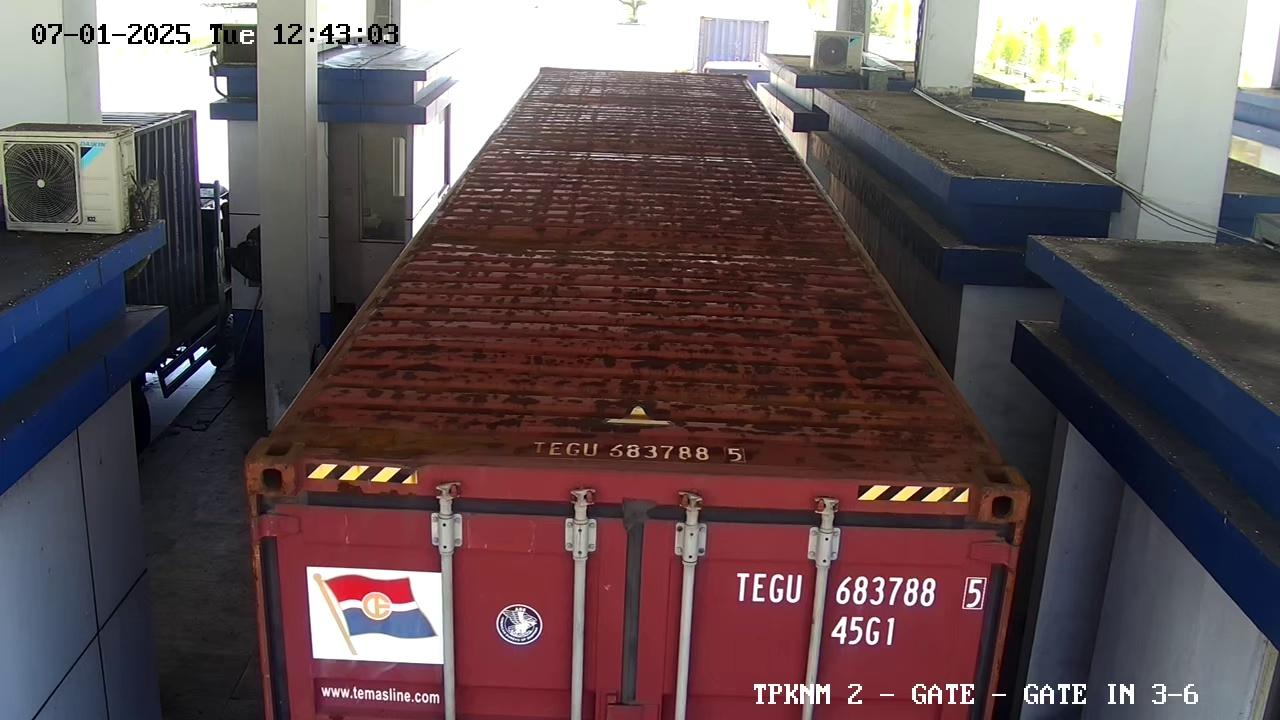Container_ID: (723, 554, 987, 614), (501, 434, 779, 482)
